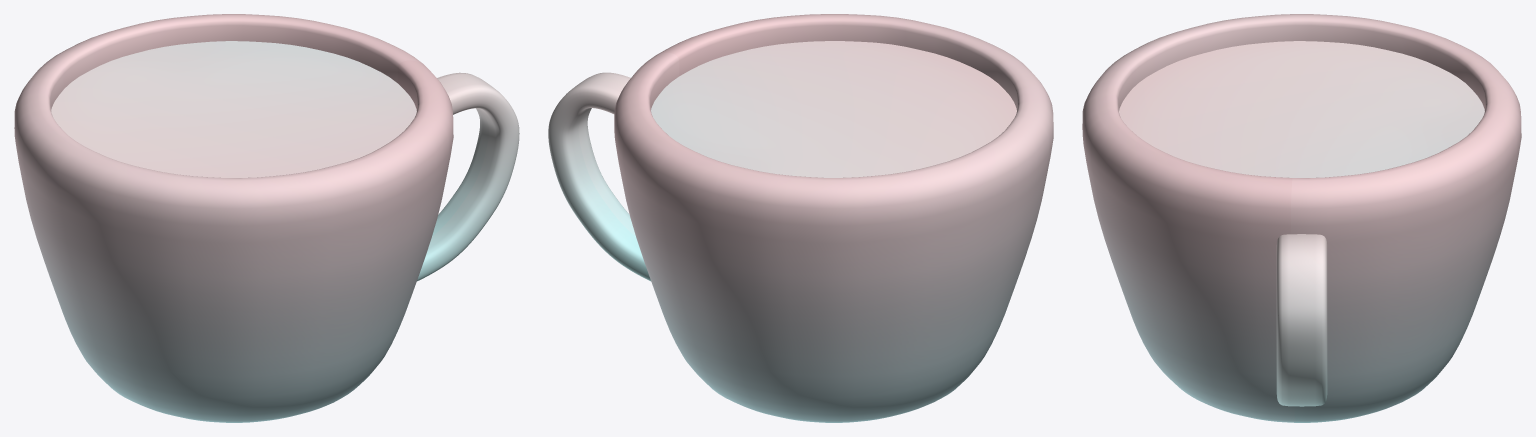
The model's file is cup2_w.fbx.
3 views of the same model, side by side, from view 1: azimuth 30°, elevation 25°; view 2: azimuth 150°, elevation 25°; view 3: azimuth 270°, elevation 25° (orthographic).
Visible parts, largest first — view 1: Cylinder001; view 2: Cylinder001; view 3: Cylinder001.
Boxes of the visible parts, x1,y1,x2,y2 form: Cylinder001: (14,14,519,422); Cylinder001: (548,14,1053,422); Cylinder001: (1082,14,1521,422).
Bounding box in the file's own units: 112 × 66.61 × 91.34.
1 material, 1 textured.
